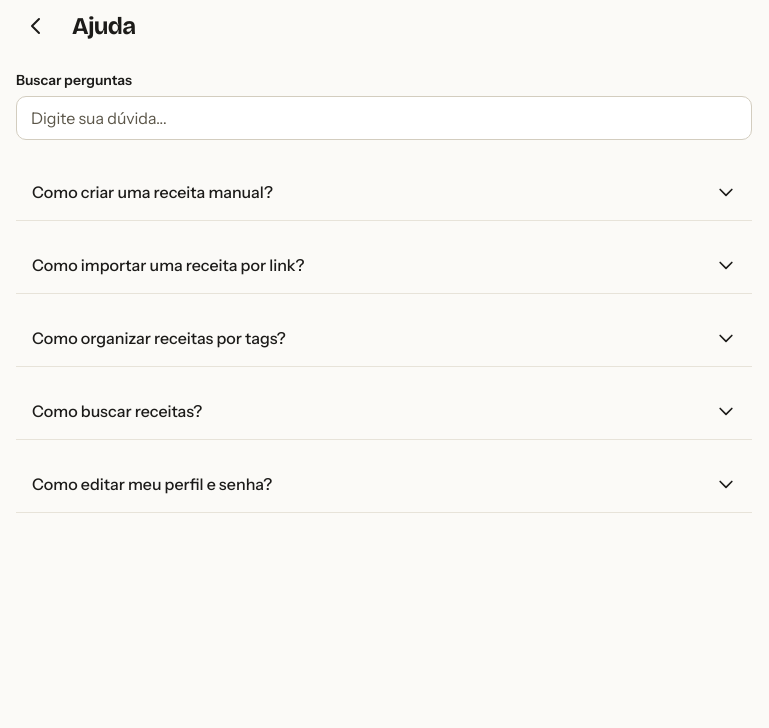
Test: HelpPage › expands and collapses FAQ items
The image size is (769, 728).
Click the button "Como criar uma receita manual?" at (152, 192), box x1=16 y1=164 x2=752 y2=220
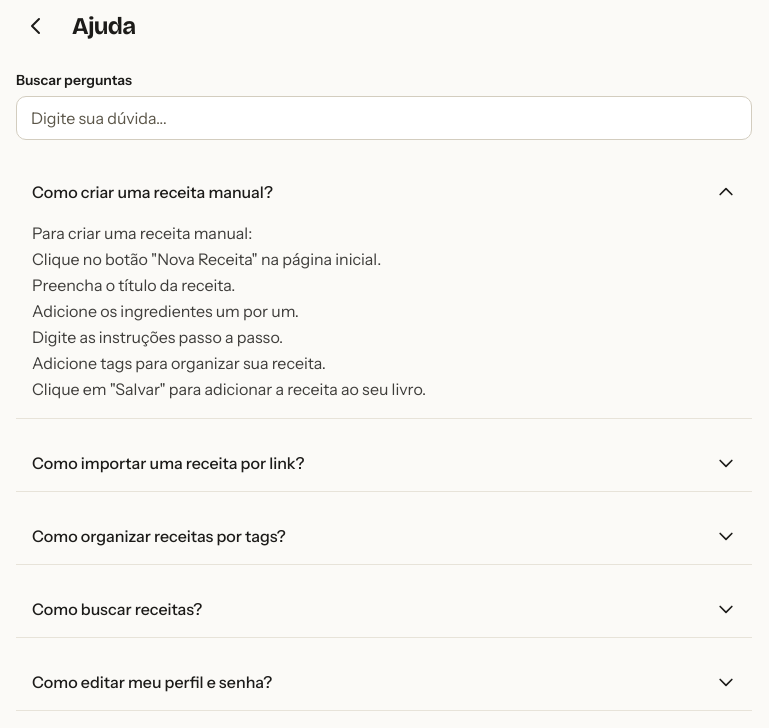
Result: the button "Como criar uma receita manual?" is expanded
Click the button "Como criar uma receita manual?" at (152, 192), box x1=16 y1=164 x2=752 y2=220
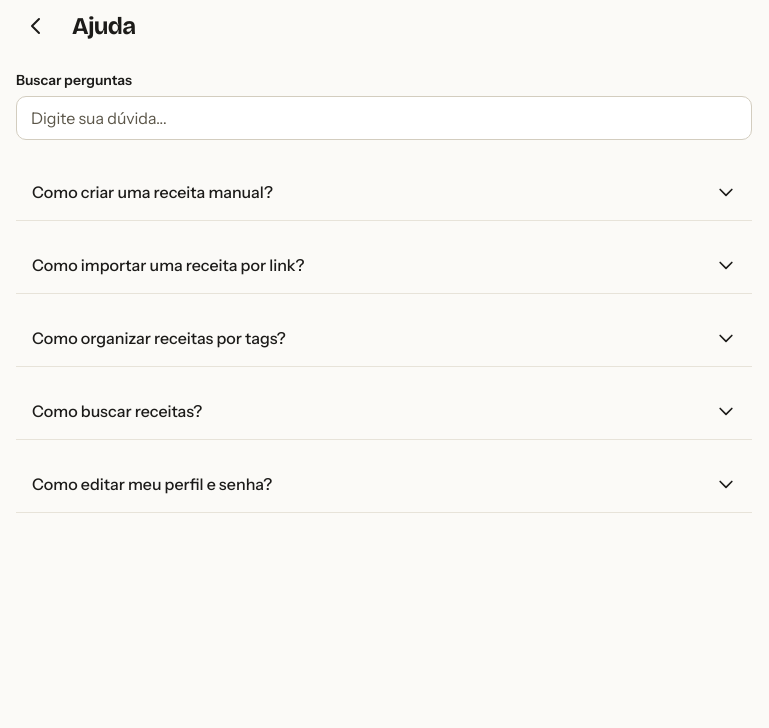
Result: the button "Como criar uma receita manual?" is collapsed at x1=16 y1=164 x2=752 y2=220
